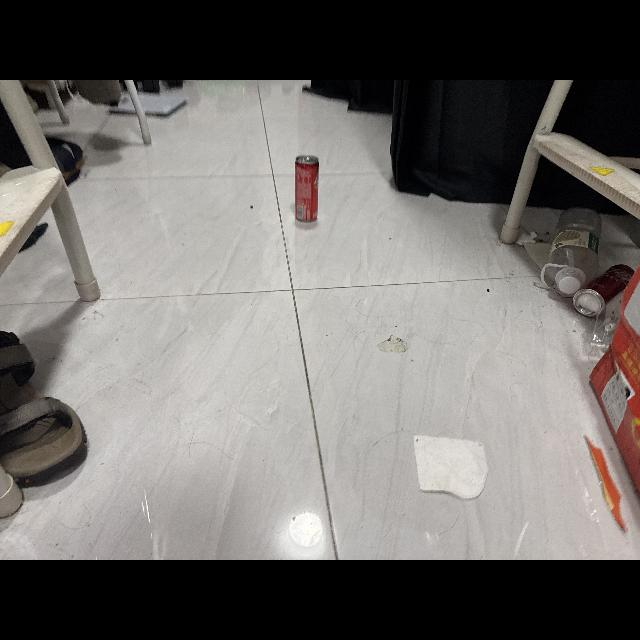Cola: (290, 152, 326, 230)
